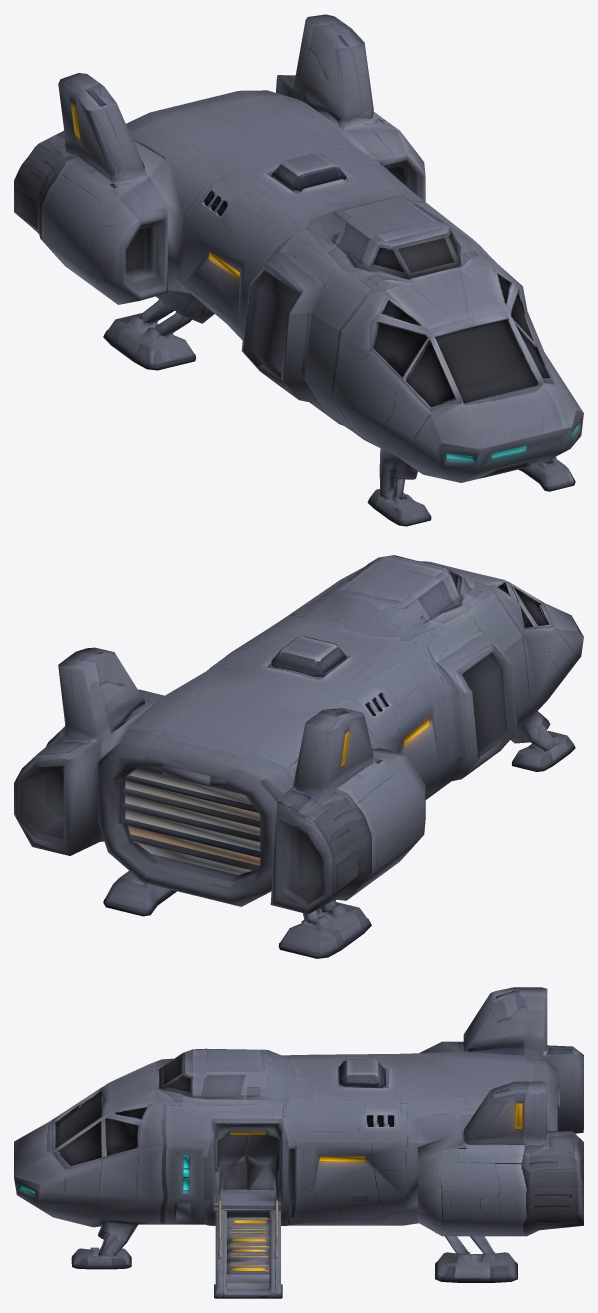
Rendered from futuristic_spaceship_3d_model.fbx.
The picture shows the model from 3 angles, top to bottom: view 1: azimuth 30°, elevation 25°; view 2: azimuth 150°, elevation 25°; view 3: azimuth 270°, elevation 25°; orthographic projection. The views are drawn at different scales.
Parts seen in each view (by area): view 1: tripo_node_3366e9fd; view 2: tripo_node_3366e9fd; view 3: tripo_node_3366e9fd.
Part boxes in pixels (x1,y1,x2,y2): tripo_node_3366e9fd: (14,14,583,526); tripo_node_3366e9fd: (14,555,583,958); tripo_node_3366e9fd: (14,987,583,1298).
Size of the model in its own units: 0.5415 by 0.3862 by 0.9995.
